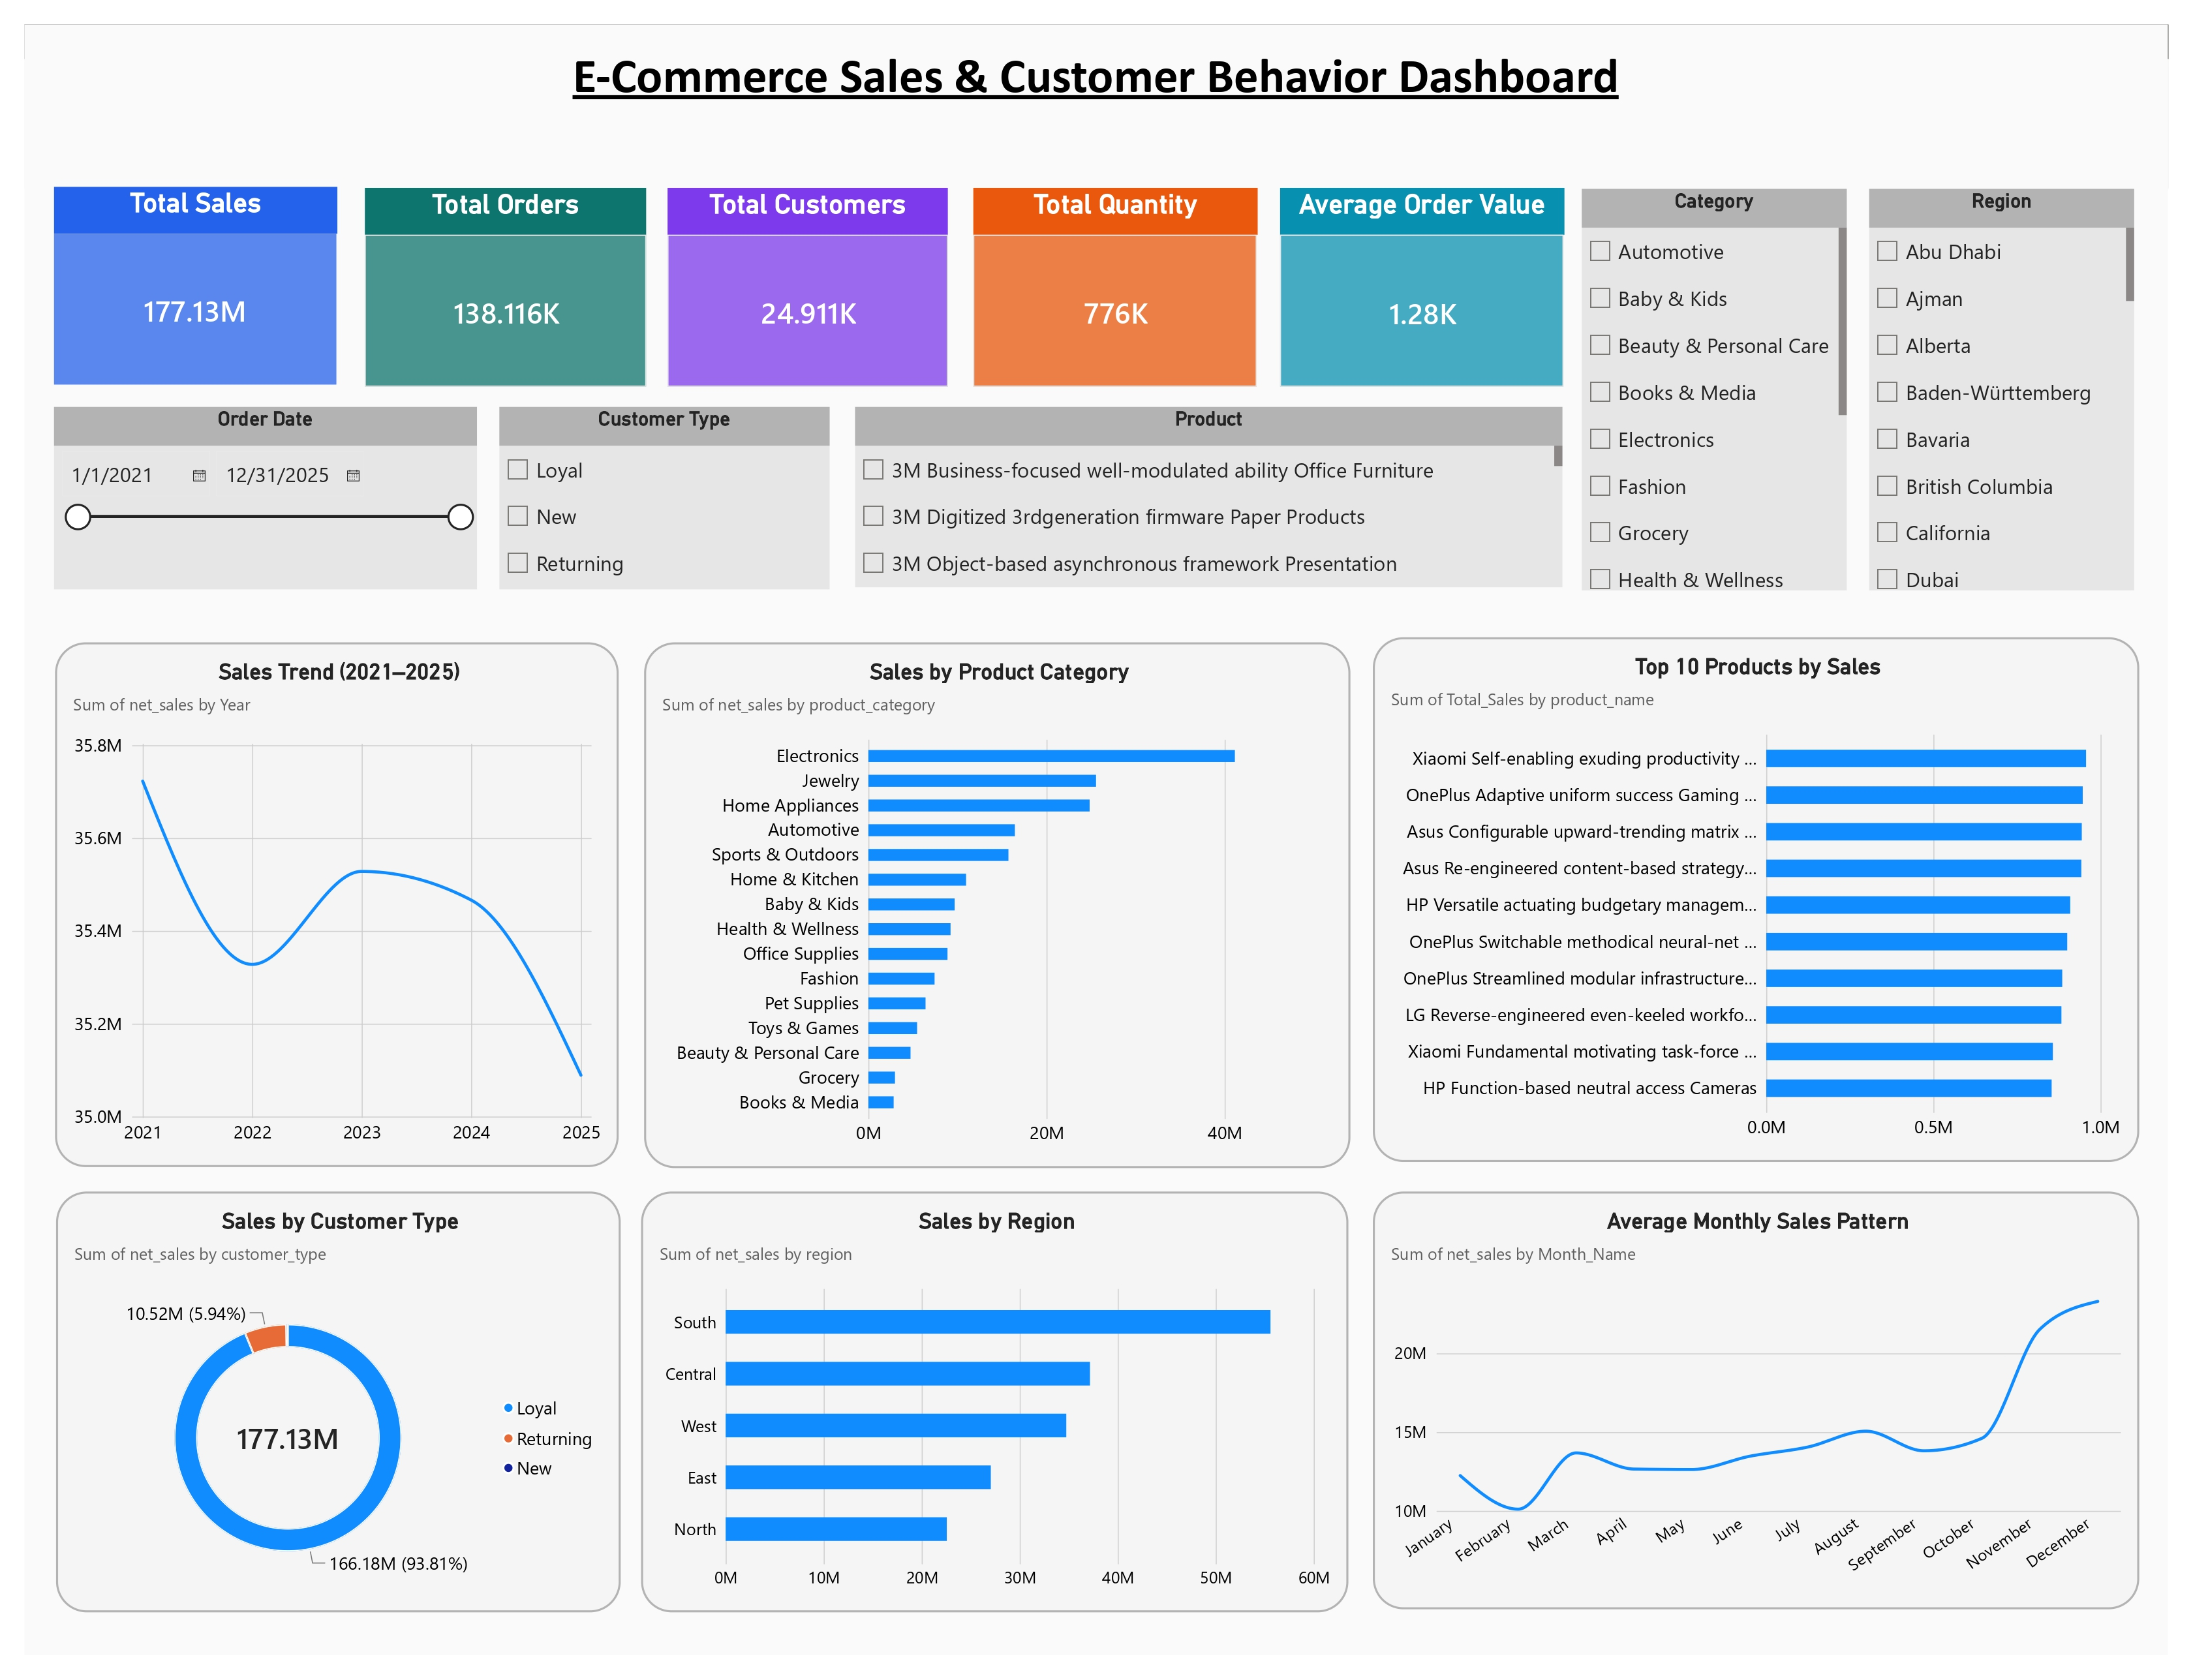

What the dashboard file says about the page in this screenshot:
{"tool":"powerbi","page":{"name":"Page 1","canvas":[2103,1600],"ordinal":0},"visuals":[{"type":"cardVisual","title":"Total Sales","fields":{"Data":["Sum(ecommerce_cleaned.net_sales)"]},"box":[29,159.3,277.9,194.9],"z":0},{"type":"cardVisual","title":"Total Orders","fields":{"Data":["CountNonNull(ecommerce_cleaned.order_id)"]},"box":[333.5,160.3,276.5,196],"z":1000},{"type":"cardVisual","title":"Total Customers","fields":{"Data":["Count(ecommerce_cleaned.customer_id)"]},"box":[631.1,160.3,275.1,195.4],"z":2000},{"type":"cardVisual","title":"Total Quantity","fields":{"Data":["Sum(ecommerce_cleaned.quantity)"]},"box":[931.4,160.3,278.7,195.4],"z":3000},{"type":"cardVisual","title":"Average Order Value","fields":{"Data":["Avg(ecommerce_cleaned.net_sales)"]},"box":[1231.6,160.3,279,196],"z":4000},{"type":"lineChart","title":"Sales Trend (2021–2025)","fields":{"Category":["ecommerce_cleaned.order_date.Variation.Date Hierarchy.Year","ecommerce_cleaned.order_date.Variation.Date Hierarchy.Quarter","ecommerce_cleaned.order_date.Variation.Date Hierarchy.Month","ecommerce_cleaned.order_date.Variation.Date Hierarchy.Day"],"Y":["Sum(ecommerce_cleaned.net_sales)"]},"box":[30,605.9,553,515.3],"z":5000},{"type":"clusteredBarChart","title":"Sales by Product Category","fields":{"Category":["category_sales.product_category"],"Y":["Sum(category_sales.net_sales)"]},"box":[607.5,606.4,693.7,515.3],"z":6000},{"type":"barChart","title":"Top 10 Products by Sales","fields":{"Category":["product_summary.product_name"],"Y":["Sum(product_summary.Total_Sales)"]},"box":[1323.3,601.1,751.5,515.3],"z":7000},{"type":"donutChart","title":"Sales by Customer Type","fields":{"Category":["ecommerce_cleaned.customer_type"],"Y":["Sum(ecommerce_cleaned.net_sales)"]},"box":[31.1,1145.3,553.8,412.6],"z":8000},{"type":"barChart","title":"Sales by Region","fields":{"Category":["ecommerce_cleaned.region"],"Y":["Sum(ecommerce_cleaned.net_sales)"]},"box":[604.8,1145.3,694.4,412.9],"z":9000},{"type":"lineChart","title":"Average Monthly Sales Pattern","fields":{"Category":["ecommerce_cleaned.Month_Name"],"Y":["Sum(ecommerce_cleaned.net_sales)"]},"box":[1323.3,1145.3,751.5,409.7],"z":10000},{"type":"slicer","title":"Order Date","fields":{"Values":["ecommerce_cleaned.order_date"]},"box":[29.5,375.3,414.7,178.5],"z":11000},{"type":"slicer","title":"Customer Type","fields":{"Values":["ecommerce_cleaned.customer_type"]},"box":[466.5,375.3,323.2,178.2],"z":12000},{"type":"slicer","title":"Region","fields":{"Values":["ecommerce_cleaned.customer_state"]},"box":[1809.7,160.9,260.1,394.1],"z":13000},{"type":"slicer","title":"Category","fields":{"Values":["category_sales.product_category"]},"box":[1528.2,160.9,260.1,394.1],"z":14000},{"type":"slicer","title":"Product","fields":{"Values":["product_summary.product_name"]},"box":[815,375.3,694.4,176.9],"z":15000},{"type":"textbox","box":[0,0,2101.9,115.3],"z":16000}]}

Visuals, with their boxes on the page's 2103x1600 design canvas (x1, y1, x2, y2). These are canvas units, not pixel positions in the 2193x1680 screenshot, which may show the page scaled, cropped or inside an application window:
"Total Sales" cardVisual: [x1=29, y1=159, x2=307, y2=354]
"Total Orders" cardVisual: [x1=334, y1=160, x2=610, y2=356]
"Total Customers" cardVisual: [x1=631, y1=160, x2=906, y2=356]
"Total Quantity" cardVisual: [x1=931, y1=160, x2=1210, y2=356]
"Average Order Value" cardVisual: [x1=1232, y1=160, x2=1511, y2=356]
"Sales Trend (2021–2025)" lineChart: [x1=30, y1=606, x2=583, y2=1121]
"Sales by Product Category" clusteredBarChart: [x1=608, y1=606, x2=1301, y2=1122]
"Top 10 Products by Sales" barChart: [x1=1323, y1=601, x2=2075, y2=1116]
"Sales by Customer Type" donutChart: [x1=31, y1=1145, x2=585, y2=1558]
"Sales by Region" barChart: [x1=605, y1=1145, x2=1299, y2=1558]
"Average Monthly Sales Pattern" lineChart: [x1=1323, y1=1145, x2=2075, y2=1555]
"Order Date" slicer: [x1=30, y1=375, x2=444, y2=554]
"Customer Type" slicer: [x1=466, y1=375, x2=790, y2=554]
"Region" slicer: [x1=1810, y1=161, x2=2070, y2=555]
"Category" slicer: [x1=1528, y1=161, x2=1788, y2=555]
"Product" slicer: [x1=815, y1=375, x2=1509, y2=552]
textbox: [x1=0, y1=0, x2=2102, y2=115]
